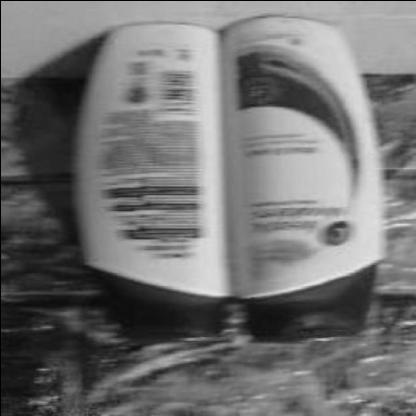objects: (72, 22, 223, 344), (232, 16, 378, 346)
